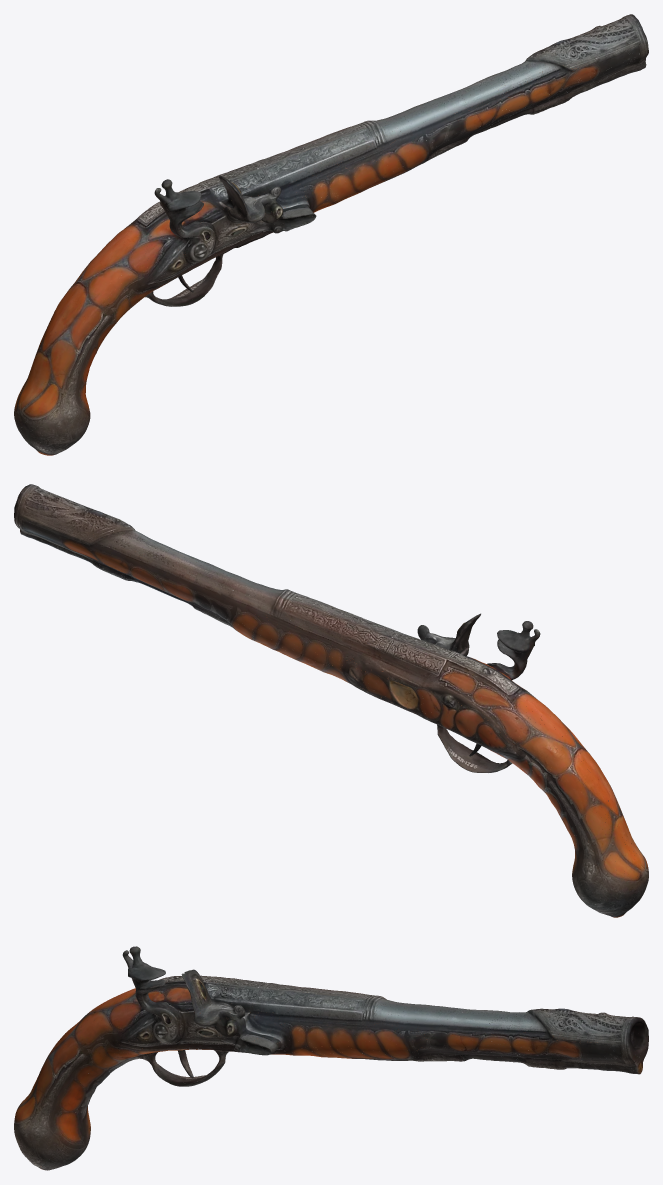
The model's file is flintlock_pistol.lod1.glb.
The picture shows the model from 3 angles, top to bottom: view 1: azimuth 30°, elevation 25°; view 2: azimuth 150°, elevation 25°; view 3: azimuth 330°, elevation 25°; orthographic projection.
Visible parts, largest first — view 1: Object_2, Object_3, Object_4; view 2: Object_2, Object_3, Object_4; view 3: Object_2, Object_3, Object_4.
Boxes of the visible parts, x1=… form: Object_2: x1=14, y1=14, x2=638, y2=455; Object_3: x1=15, y1=15, x2=648, y2=454; Object_4: x1=15, y1=14, x2=648, y2=455; Object_2: x1=14, y1=484, x2=648, y2=917; Object_3: x1=14, y1=484, x2=648, y2=912; Object_4: x1=14, y1=487, x2=648, y2=917; Object_2: x1=14, y1=946, x2=648, y2=1170; Object_3: x1=14, y1=946, x2=648, y2=1169; Object_4: x1=14, y1=948, x2=648, y2=1167.
Size of the model in its own units: 62.93 by 28.07 by 8.47.
Materials: 1 (1 with a texture image).
